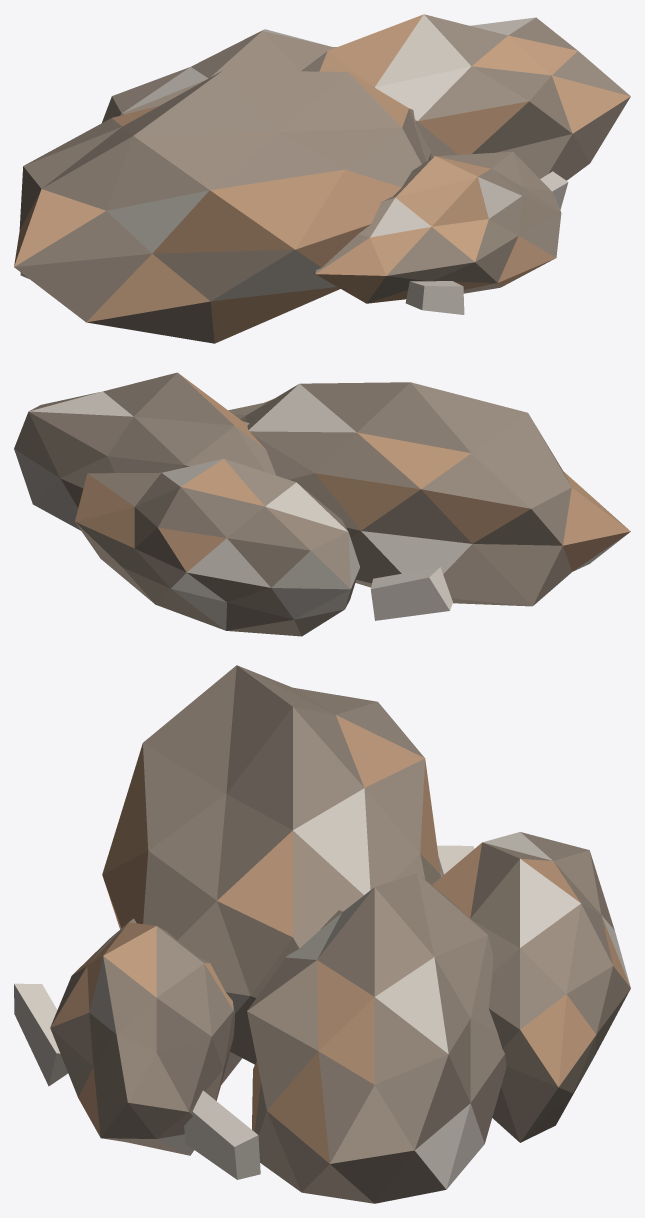
Rendered from iron_ore.glb.
The picture shows the model from 3 angles, top to bottom: view 1: azimuth 30°, elevation 25°; view 2: azimuth 150°, elevation 25°; view 3: azimuth 270°, elevation 25°; orthographic projection. The views are drawn at different scales.
Visible parts, largest first — view 1: iron_ore; view 2: iron_ore; view 3: iron_ore.
Boxes of the visible parts, x1,y1,x2,y2 form: iron_ore: (14,14,630,343); iron_ore: (14,372,630,636); iron_ore: (14,665,630,1203).
Size of the model in its own units: 0.5478 by 0.2027 by 0.3394.
